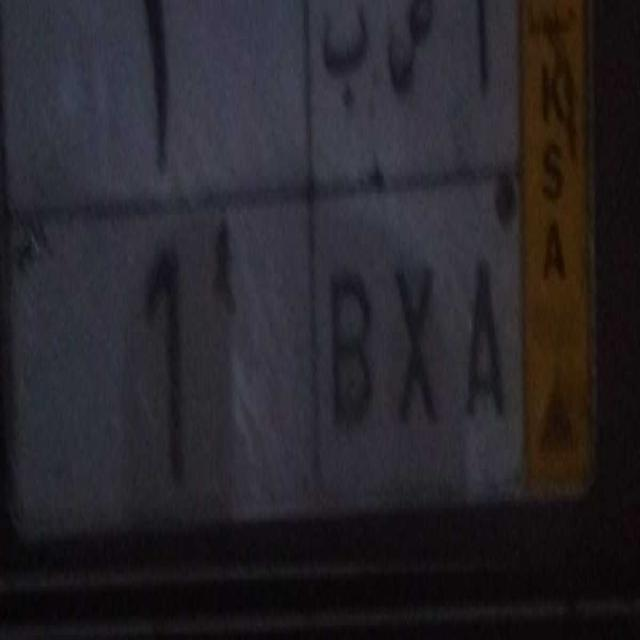license_plate: (4, 177, 522, 566)
